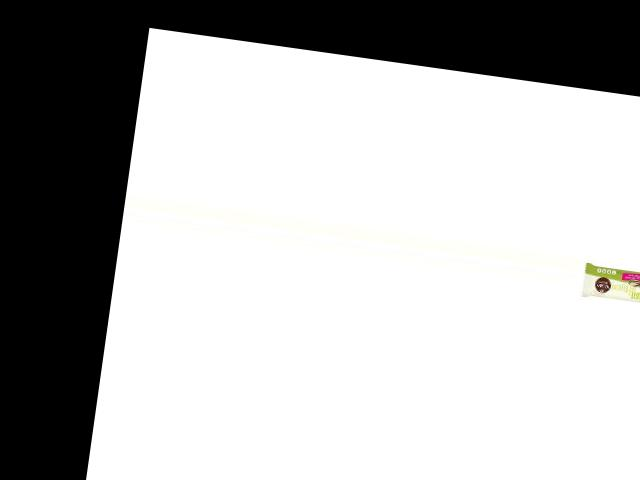chocolate: (581, 258, 640, 313)
